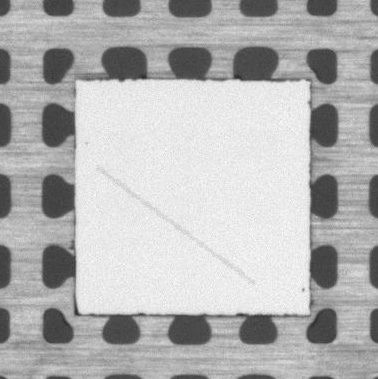DIE_CRACK: (98, 168, 253, 284)
